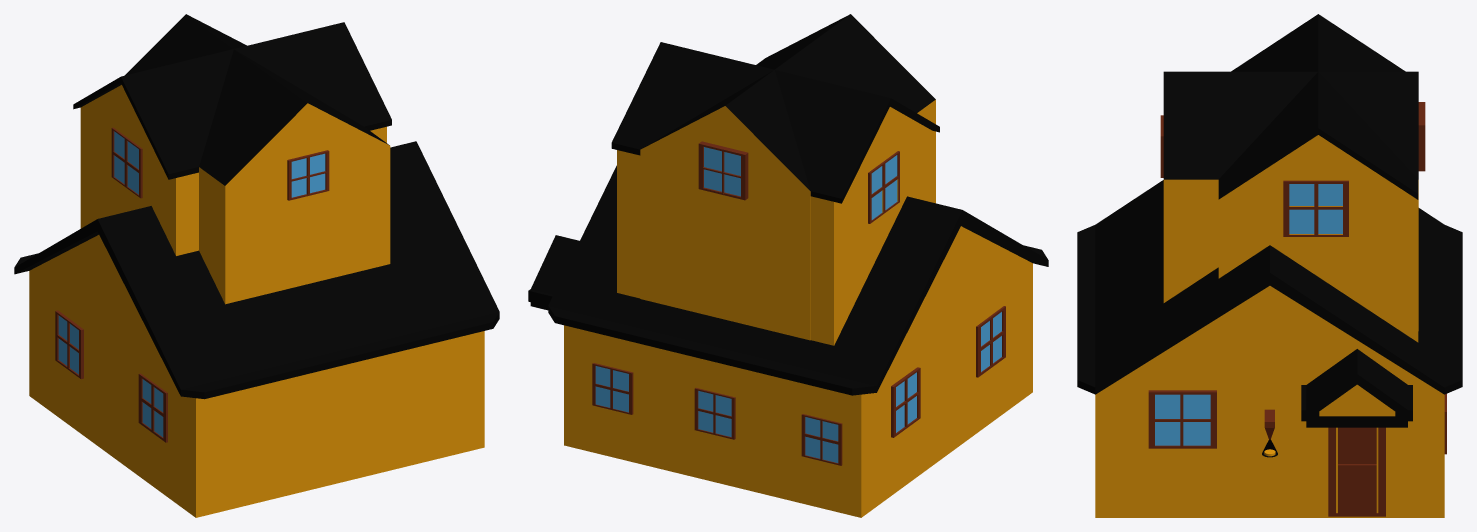
Rendered from House4.fbx.
3 views of the same model, side by side, from view 1: azimuth 30°, elevation 25°; view 2: azimuth 150°, elevation 25°; view 3: azimuth 270°, elevation 25° (orthographic). The views are drawn at different scales.
Visible parts, largest first — view 1: Cube; view 2: Cube; view 3: Cube.
Part boxes in pixels (bbox=[...]): Cube: bbox=[14, 14, 499, 517]; Cube: bbox=[528, 14, 1048, 517]; Cube: bbox=[1077, 14, 1462, 517].
Bounding box in the file's own units: 974 × 937 × 879.
